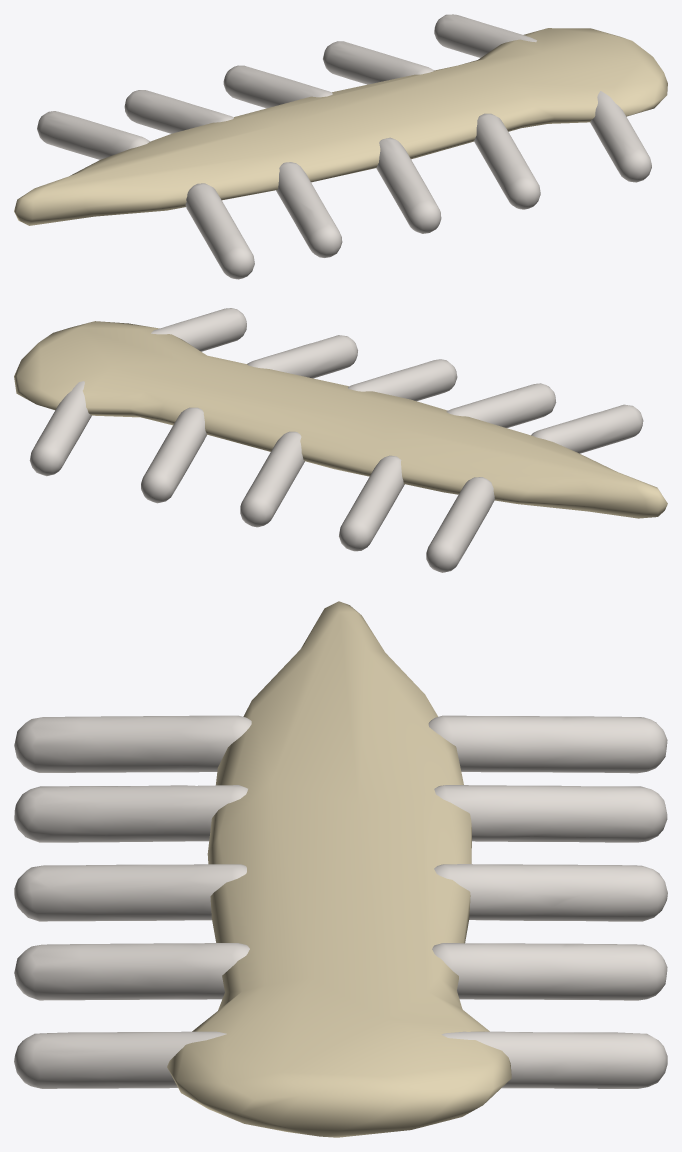
Rendered from sternum.glb.
3 views of the same model, one above another, from view 1: azimuth 30°, elevation 25°; view 2: azimuth 150°, elevation 25°; view 3: azimuth 270°, elevation 25° (orthographic). The views are drawn at different scales.
Parts seen in each view (by area): view 1: Sternum, RibCartilage; view 2: Sternum, RibCartilage; view 3: Sternum, RibCartilage.
Boxes of the visible parts, x1=… form: Sternum: x1=14, y1=28, x2=667, y2=225; RibCartilage: x1=37, y1=14, x2=651, y2=279; Sternum: x1=14, y1=321, x2=667, y2=518; RibCartilage: x1=29, y1=308, x2=643, y2=572; Sternum: x1=167, y1=601, x2=511, y2=1137; RibCartilage: x1=14, y1=715, x2=667, y2=1088.
Bounding box in the file's own units: 0.1588 × 0.0116 × 0.0875.
